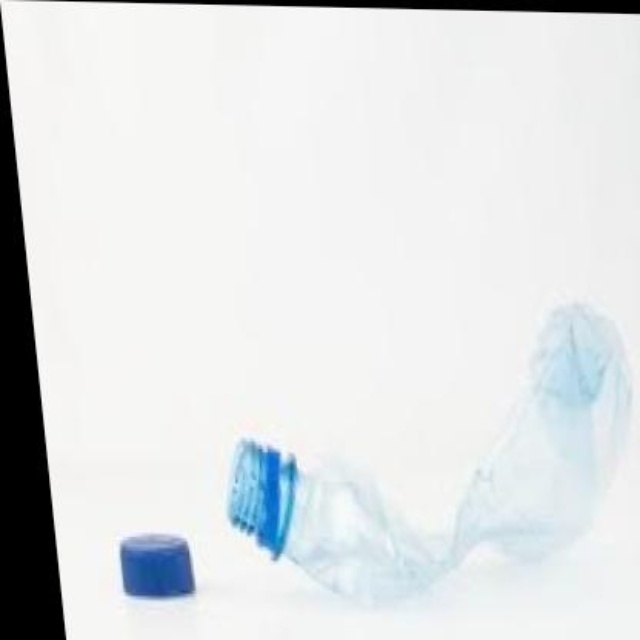trash: (280, 302, 631, 600), (120, 534, 194, 594)
